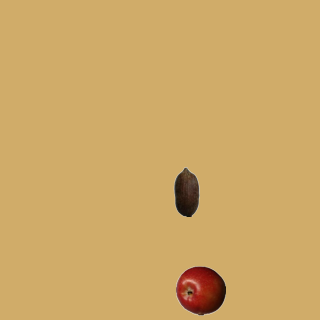Apple Braeburn: (175, 265, 225, 315)
Nut Pecan: (161, 166, 211, 216)
